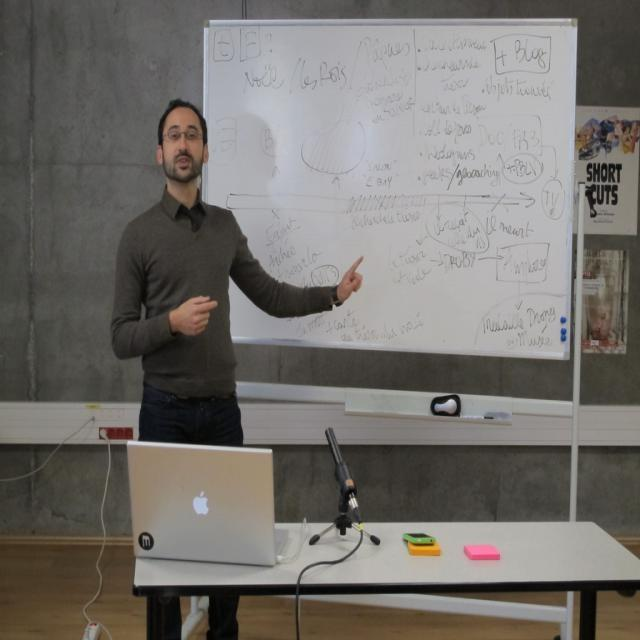Meja: (131, 520, 639, 638)
Whiteboard: (200, 16, 577, 360)
